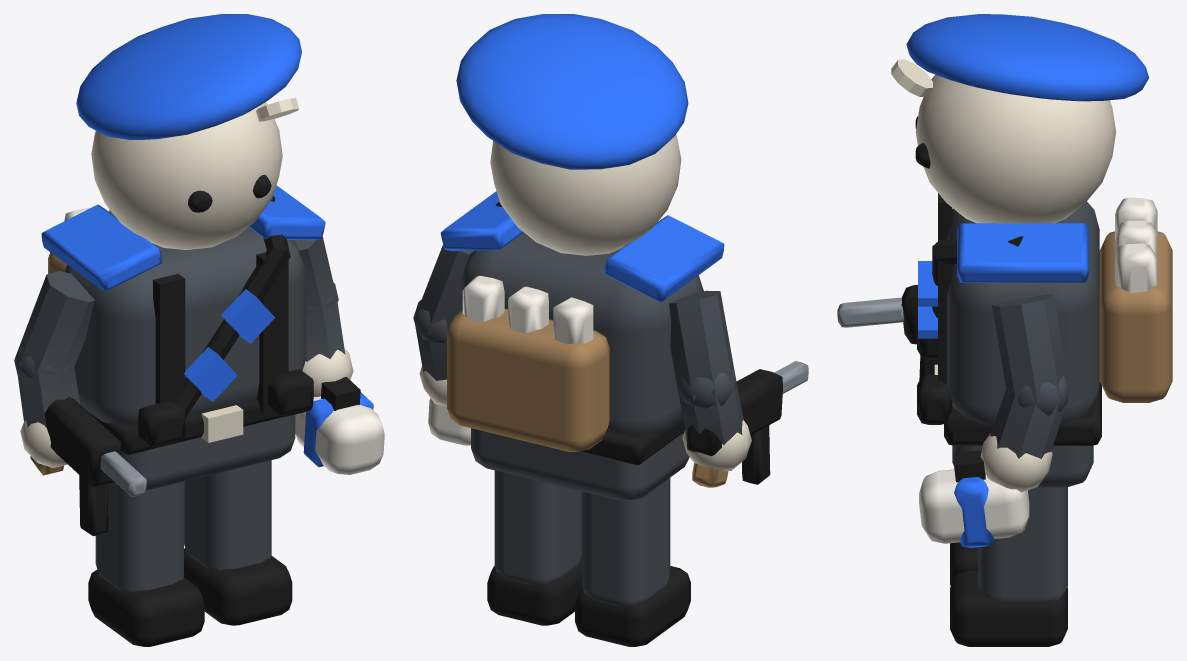
Rendered from commando.glb.
3 renders of one model, left to right at view 1: azimuth 30°, elevation 25°; view 2: azimuth 150°, elevation 25°; view 3: azimuth 270°, elevation 25°, orthographic. The views are drawn at different scales.
Visible parts, largest first — view 1: turret__M_SmokePlastic, hat__M_Team, head__M_CreamPlastic, turret__M_Licorice, turret__M_Team, arms__M_SmokePlastic, leg_l__M_SmokePlastic, leg_r__M_SmokePlastic, hips__M_SmokePlastic, leg_r__M_Licorice, barrel__M_Licorice, leg_l__M_Licorice (+9 smaller); view 2: hat__M_Team, pack__M_Kraft, turret__M_SmokePlastic, head__M_CreamPlastic, arms__M_SmokePlastic, leg_r__M_SmokePlastic, turret__M_Team, leg_l__M_SmokePlastic, hips__M_SmokePlastic, pack__M_Bone, leg_r__M_Licorice, barrel__M_Licorice (+6 smaller); view 3: head__M_CreamPlastic, hat__M_Team, turret__M_SmokePlastic, arms__M_SmokePlastic, pack__M_Kraft, turret__M_Team, leg_l__M_SmokePlastic, leg_l__M_Licorice, charge__M_Bone, turret__M_Licorice, pack__M_Bone, hips__M_Licorice (+8 smaller).
Boxes of the visible parts, x1,y1,x2,y2 form: turret__M_SmokePlastic: (65,227,306,423); hat__M_Team: (76,14,301,139); head__M_CreamPlastic: (91,102,282,249); turret__M_Licorice: (138,196,313,446); turret__M_Team: (41,185,325,401); arms__M_SmokePlastic: (14,237,345,427); leg_l__M_SmokePlastic: (184,460,271,570); leg_r__M_SmokePlastic: (95,481,183,592); hips__M_SmokePlastic: (120,414,295,490); leg_r__M_Licorice: (88,569,204,646); barrel__M_Licorice: (44,397,121,535); leg_l__M_Licorice: (184,548,292,625); hat__M_Team: (456,14,688,169); pack__M_Kraft: (447,308,609,451); turret__M_SmokePlastic: (460,232,703,434); head__M_CreamPlastic: (490,134,681,255); arms__M_SmokePlastic: (413,245,743,444); leg_r__M_SmokePlastic: (582,478,670,606); turret__M_Team: (440,191,724,302); leg_l__M_SmokePlastic: (494,470,582,584); hips__M_SmokePlastic: (471,428,689,500); pack__M_Bone: (462,276,593,344); leg_r__M_Licorice: (575,566,690,646); barrel__M_Licorice: (686,369,782,484); head__M_CreamPlastic: (915,74,1115,223); hat__M_Team: (906,14,1148,101); turret__M_SmokePlastic: (947,201,1099,426); arms__M_SmokePlastic: (990,294,1069,459); pack__M_Kraft: (1099,231,1172,402); turret__M_Team: (918,223,1088,338); leg_l__M_SmokePlastic: (978,487,1067,601); leg_l__M_Licorice: (950,570,1067,646); charge__M_Bone: (919,469,1029,543); turret__M_Licorice: (917,193,1023,424); pack__M_Bone: (1115,197,1157,292); hips__M_Licorice: (944,381,1101,445).
Bounding box in the file's own units: 0.332 × 0.561 × 0.2846.
